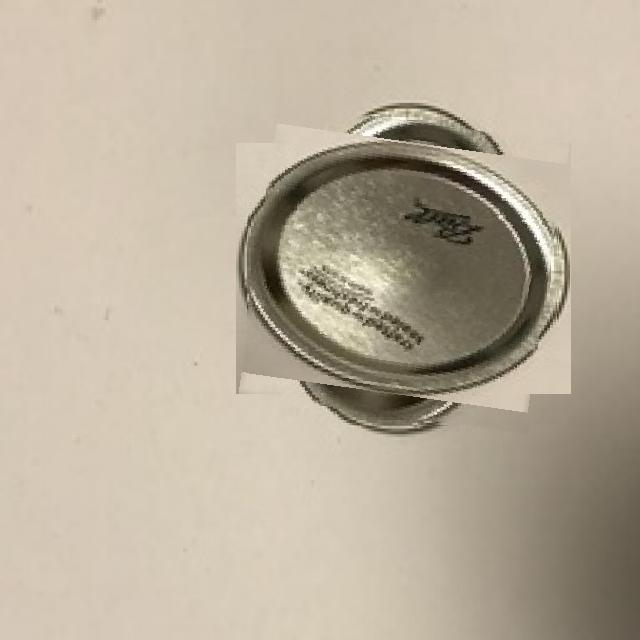recyclable: (247, 113, 560, 425)
